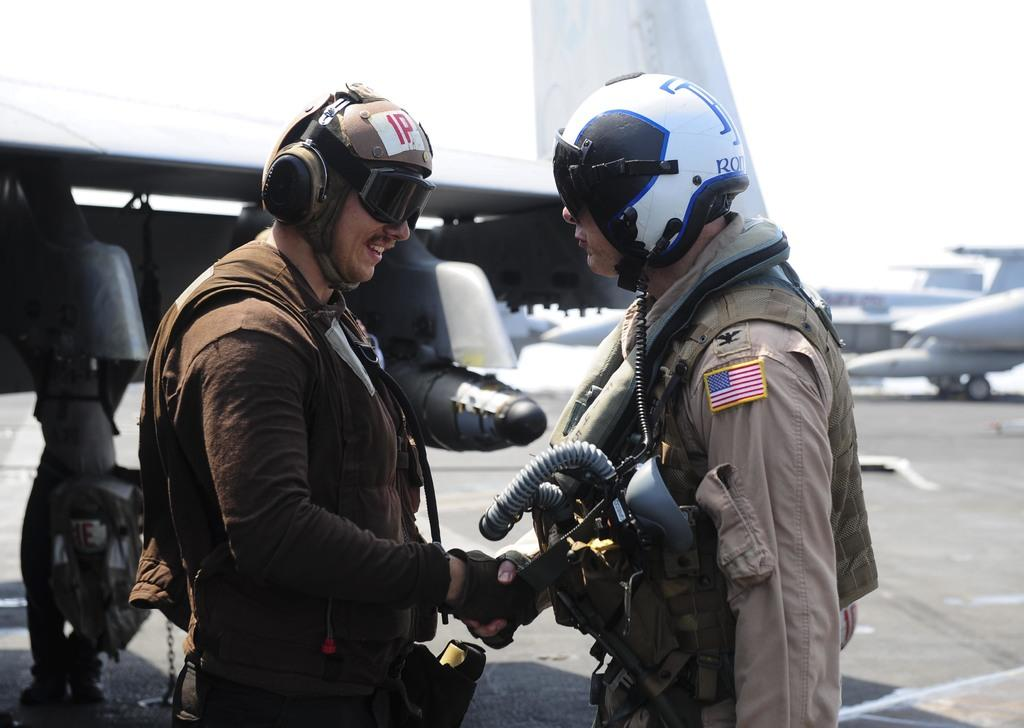helmet: (553, 73, 748, 275)
